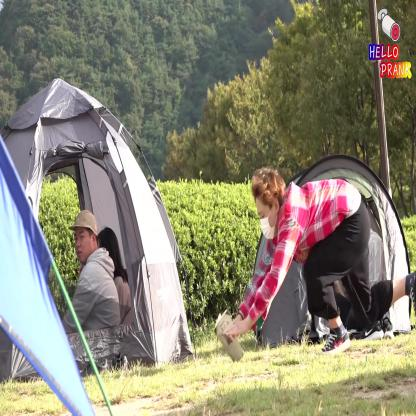Fall_Down: (225, 164, 415, 364)
